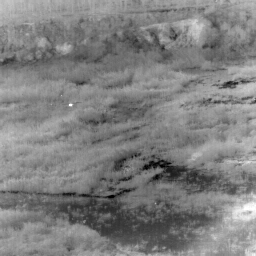aircraft: (70, 104, 72, 106)
